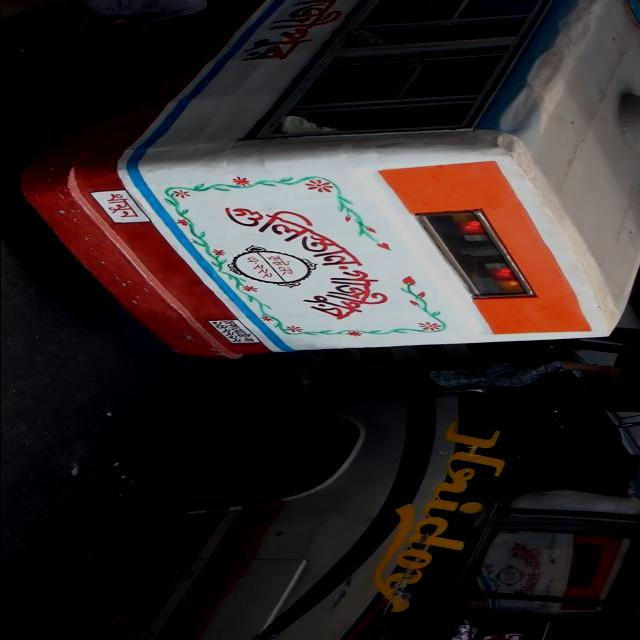bus: (19, 1, 639, 360)
